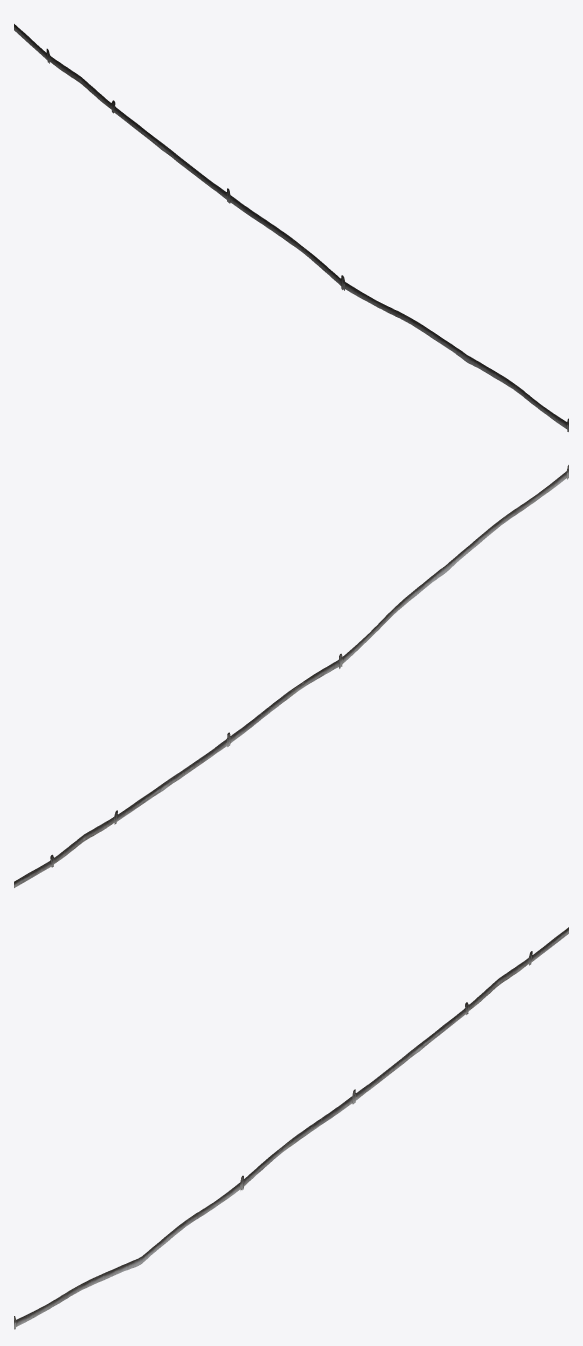
Rendered from ThickWire_T10.FBX.
3 views of the same model, one above another, from view 1: azimuth 30°, elevation 25°; view 2: azimuth 150°, elevation 25°; view 3: azimuth 330°, elevation 25° (orthographic).
Visible parts, largest first — view 1: ThickWire_T10; view 2: ThickWire_T10; view 3: ThickWire_T10.
Part boxes in pixels (box(x1,y1,x2,y2)): ThickWire_T10: box(14, 24, 568, 431); ThickWire_T10: box(14, 465, 568, 887); ThickWire_T10: box(14, 927, 568, 1329).
Bounding box in the file's own units: 1.97 × 6.55 × 158.
